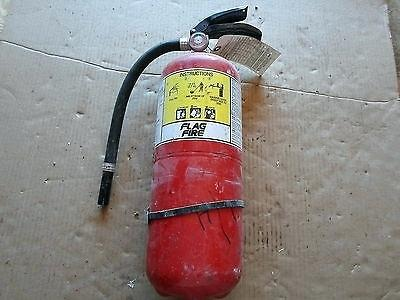fire: (98, 7, 263, 299)
